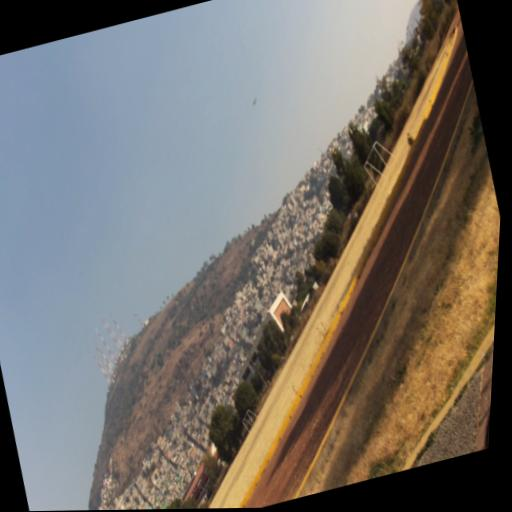drones: (249, 95, 259, 109)
